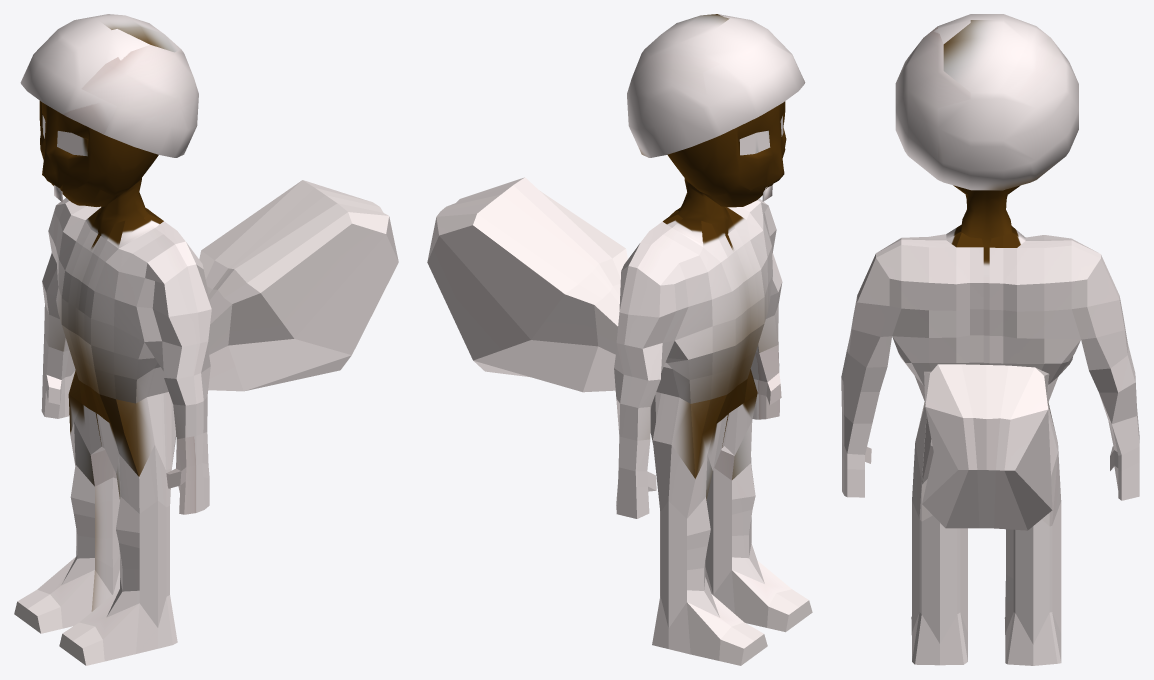
File: CharacterSquirrel.fbx
3 views of the same model, side by side, from view 1: azimuth 30°, elevation 25°; view 2: azimuth 150°, elevation 25°; view 3: azimuth 270°, elevation 25° (orthographic). The views are drawn at different scales.
Visible parts, largest first — view 1: Character; view 2: Character; view 3: Character.
Boxes of the visible parts, x1,y1,x2,y2 form: Character: (14, 14, 398, 665); Character: (427, 14, 812, 665); Character: (841, 14, 1139, 665).
Size of the model in its own units: 307 by 504 by 218.
4 materials, 4 textured.
